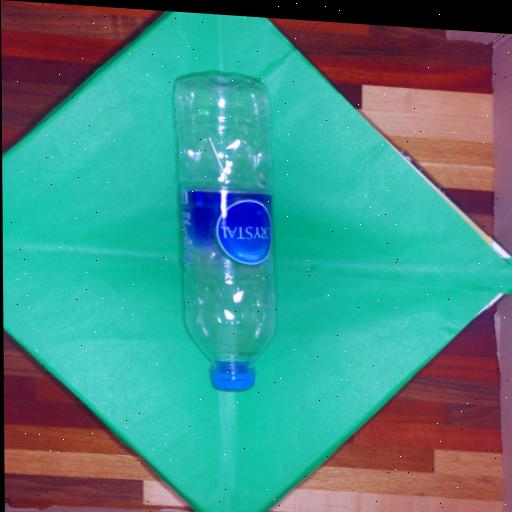bottle: (168, 62, 284, 400)
